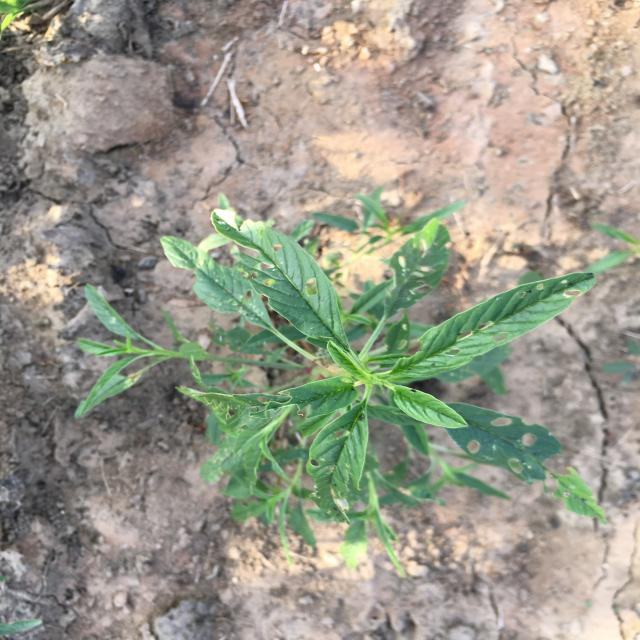Waterhemp: (75, 188, 610, 579)
